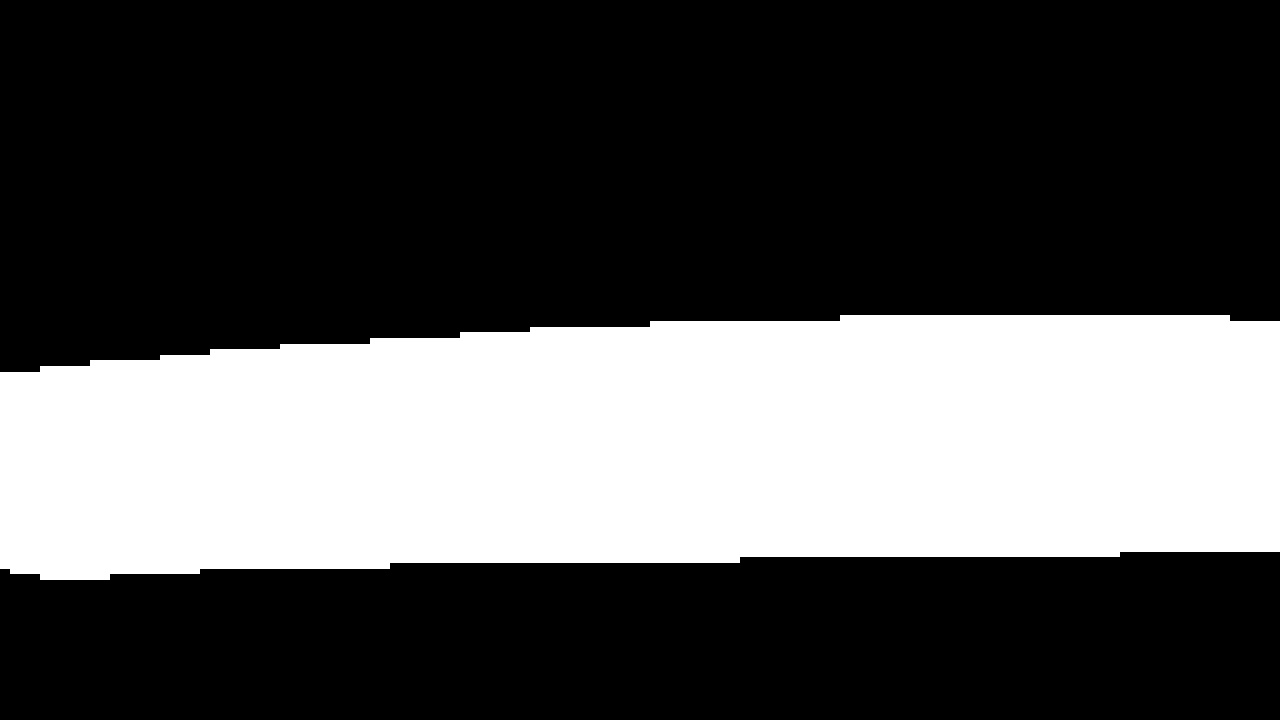Turbine: (8, 281, 1278, 591)
